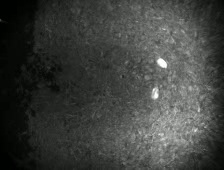corn: (154, 56, 169, 72), (148, 84, 162, 100)
